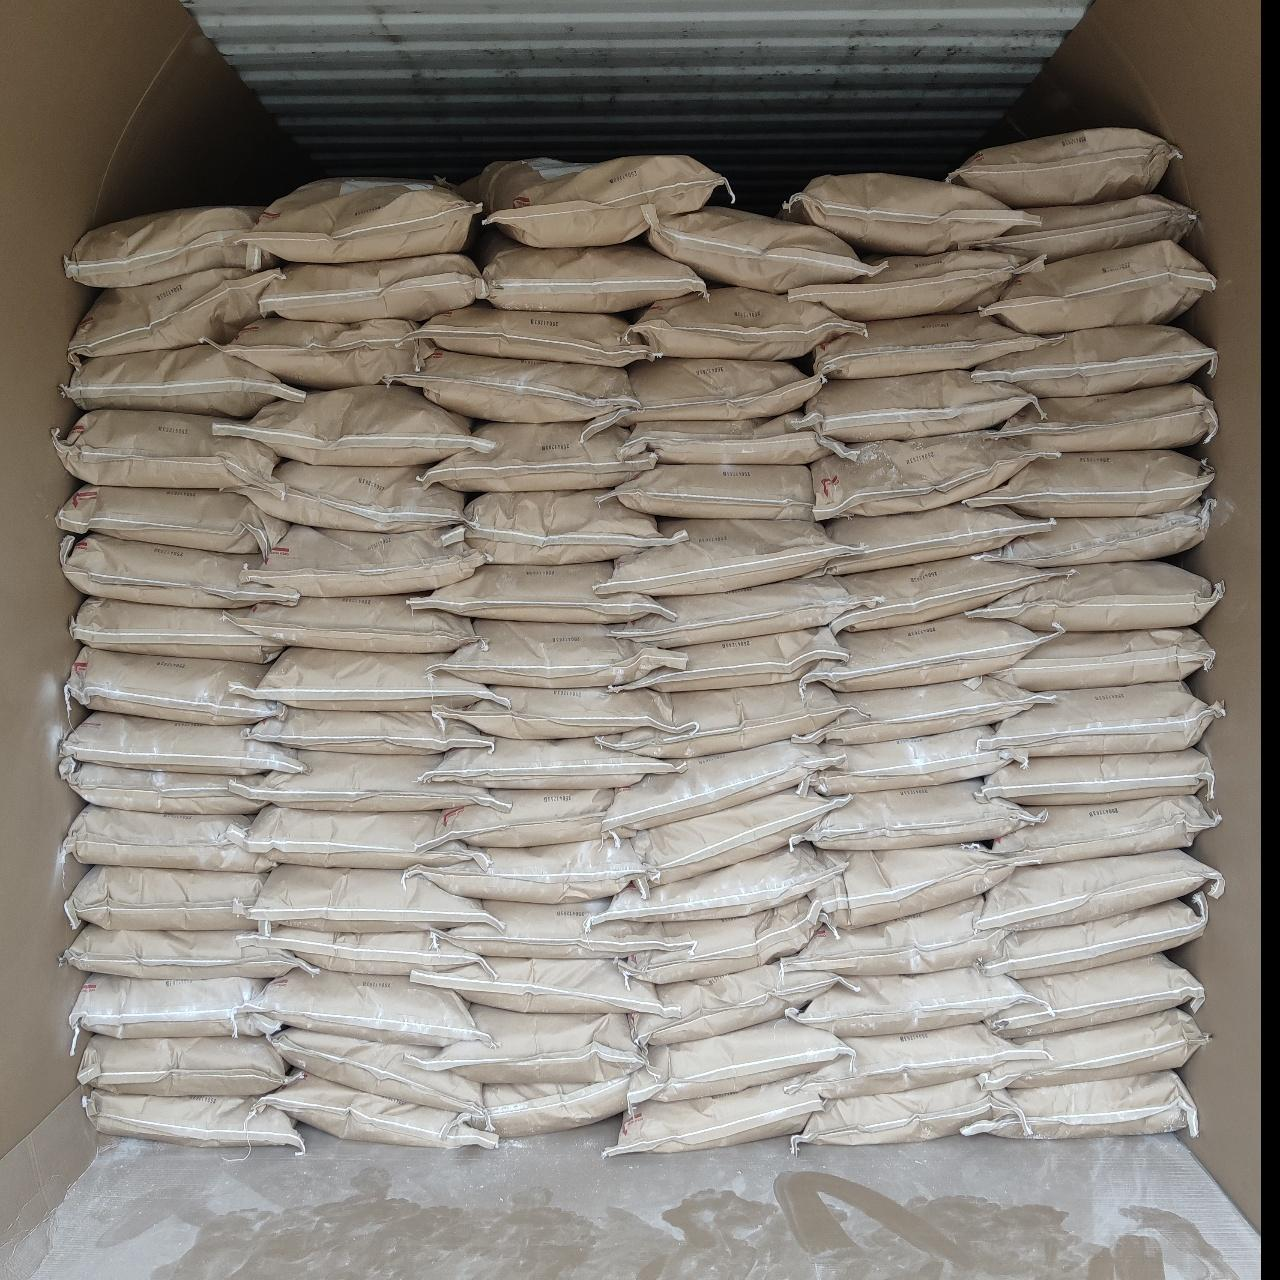sack: (464, 156, 730, 246), (618, 788, 844, 892), (983, 241, 1214, 332), (604, 740, 835, 830), (70, 266, 278, 365), (215, 386, 481, 462), (594, 846, 846, 924), (252, 178, 481, 263), (782, 173, 1026, 252), (629, 962, 862, 1044), (600, 520, 852, 595), (245, 1073, 497, 1148), (646, 207, 870, 292), (812, 433, 1039, 516), (982, 850, 1223, 926), (946, 128, 1178, 206), (632, 1016, 850, 1099), (610, 682, 846, 758), (54, 410, 278, 490), (986, 954, 1201, 1036), (799, 617, 1046, 688), (779, 898, 1010, 974), (982, 900, 1208, 978), (610, 576, 858, 646), (966, 561, 1223, 629), (832, 554, 1064, 629), (250, 971, 481, 1046), (978, 1010, 1206, 1085), (792, 966, 1044, 1034), (586, 358, 822, 430), (272, 1030, 481, 1112), (972, 326, 1214, 396), (799, 1024, 1046, 1094), (62, 343, 302, 414), (792, 250, 1039, 318), (390, 350, 632, 420), (624, 900, 826, 982), (425, 1006, 644, 1082), (478, 236, 702, 309), (798, 678, 1054, 742), (818, 504, 1051, 574), (62, 536, 294, 606), (966, 450, 1214, 516), (799, 372, 1030, 442), (66, 207, 272, 286), (66, 648, 278, 724), (821, 845, 1017, 927), (404, 836, 644, 903), (241, 526, 484, 592), (606, 1082, 822, 1156), (408, 561, 668, 622), (422, 422, 654, 490), (234, 648, 486, 710), (434, 620, 672, 686), (812, 312, 1050, 377), (244, 459, 464, 530), (632, 288, 856, 358), (986, 796, 1220, 862), (454, 490, 680, 558), (998, 682, 1223, 750), (964, 1073, 1196, 1138), (808, 782, 1040, 847), (978, 501, 1208, 566), (414, 302, 652, 366), (992, 384, 1214, 450), (808, 726, 1026, 792), (57, 486, 286, 550), (246, 806, 478, 869), (246, 866, 486, 926), (60, 714, 298, 774), (226, 595, 478, 652), (622, 628, 846, 692), (794, 1080, 1017, 1142), (222, 320, 433, 386), (992, 628, 1214, 690), (436, 900, 676, 958), (263, 254, 481, 318), (72, 595, 278, 662), (60, 806, 270, 872), (414, 958, 668, 1012), (252, 750, 493, 806), (986, 196, 1196, 260), (62, 926, 318, 978), (70, 976, 278, 1040), (84, 1090, 302, 1150), (976, 750, 1212, 804), (424, 738, 678, 788), (464, 1065, 638, 1136), (618, 411, 858, 462), (80, 1036, 290, 1094), (66, 866, 266, 926), (436, 686, 680, 734), (244, 928, 486, 974), (608, 464, 812, 518), (424, 790, 614, 846), (250, 708, 486, 753), (62, 762, 266, 813)
